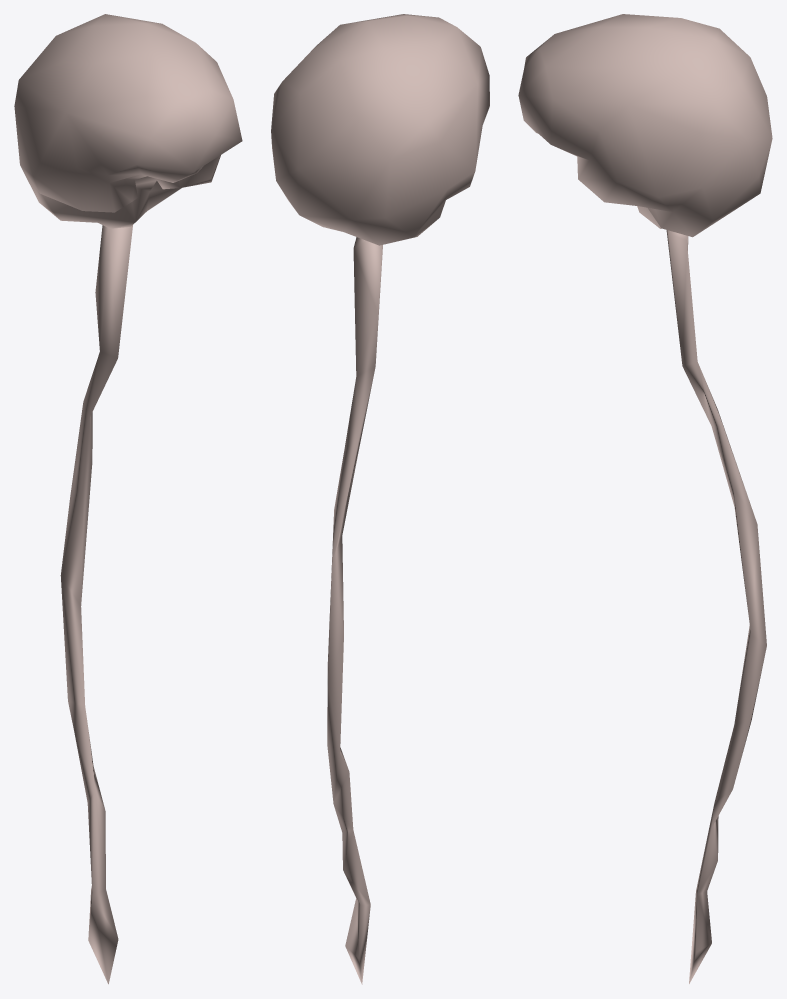
The model's file is pediatric_adolescent_female.nervous.LOD3.glb.
The picture shows the model from 3 angles, left to right: view 1: azimuth 30°, elevation 25°; view 2: azimuth 150°, elevation 25°; view 3: azimuth 270°, elevation 25°; orthographic projection. The views are drawn at different scales.
Visible parts, largest first — view 1: PEDIATRIC.ADOLESCENT.FEMALE.NERVOUS.BRAIN, PEDIATRIC.ADOLESCENT.FEMALE.NERVOUS.SPINAL_CORD; view 2: PEDIATRIC.ADOLESCENT.FEMALE.NERVOUS.BRAIN, PEDIATRIC.ADOLESCENT.FEMALE.NERVOUS.SPINAL_CORD; view 3: PEDIATRIC.ADOLESCENT.FEMALE.NERVOUS.BRAIN, PEDIATRIC.ADOLESCENT.FEMALE.NERVOUS.SPINAL_CORD.
Part boxes in pixels (bbox=[...]): PEDIATRIC.ADOLESCENT.FEMALE.NERVOUS.BRAIN: bbox=[14, 14, 242, 228]; PEDIATRIC.ADOLESCENT.FEMALE.NERVOUS.SPINAL_CORD: bbox=[60, 225, 132, 984]; PEDIATRIC.ADOLESCENT.FEMALE.NERVOUS.BRAIN: bbox=[271, 14, 489, 245]; PEDIATRIC.ADOLESCENT.FEMALE.NERVOUS.SPINAL_CORD: bbox=[327, 237, 382, 984]; PEDIATRIC.ADOLESCENT.FEMALE.NERVOUS.BRAIN: bbox=[518, 14, 772, 237]; PEDIATRIC.ADOLESCENT.FEMALE.NERVOUS.SPINAL_CORD: bbox=[666, 230, 766, 983].
Size of the model in its own units: 0.1322 by 0.6555 by 0.1565.
